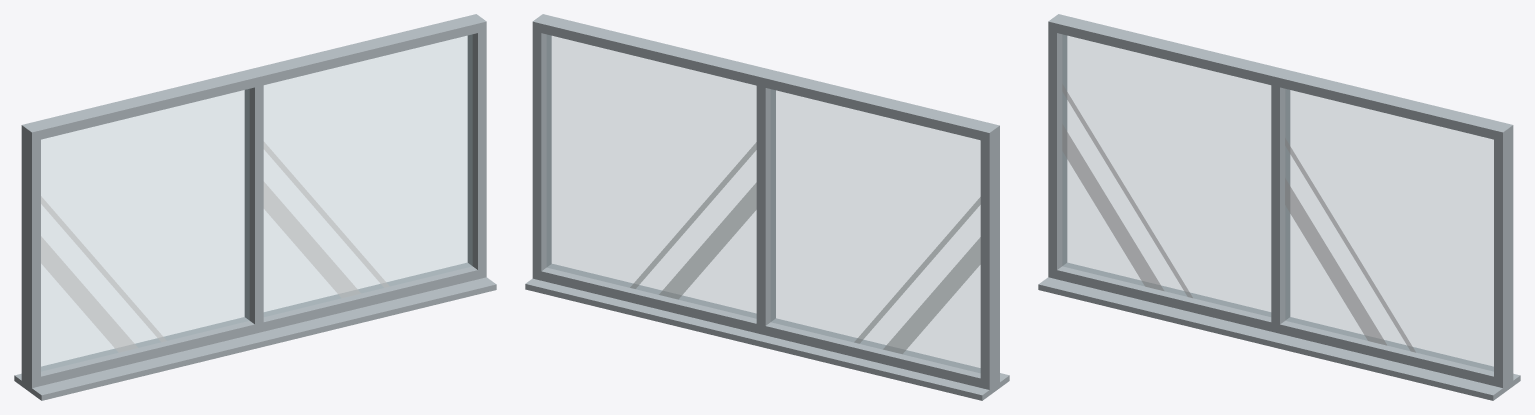
Rendered from SM_StorefrontBay_C.glb.
The picture shows the model from 3 angles, left to right: view 1: azimuth 30°, elevation 25°; view 2: azimuth 150°, elevation 25°; view 3: azimuth 330°, elevation 25°; orthographic projection.
Visible parts, largest first — view 1: Glass, SM_StorefrontBay_C; view 2: Glass, SM_StorefrontBay_C; view 3: Glass, SM_StorefrontBay_C.
Boxes of the visible parts, <box> form: Glass: <box>41,35,472,370</box>; SM_StorefrontBay_C: <box>14,14,496,400</box>; Glass: <box>547,35,980,372</box>; SM_StorefrontBay_C: <box>525,14,1009,400</box>; Glass: <box>1062,35,1493,370</box>; SM_StorefrontBay_C: <box>1038,14,1520,400</box>.
Size of the model in its own units: 2.55 by 1.4 by 0.265.
Materials: 3 (3 with a texture image).
